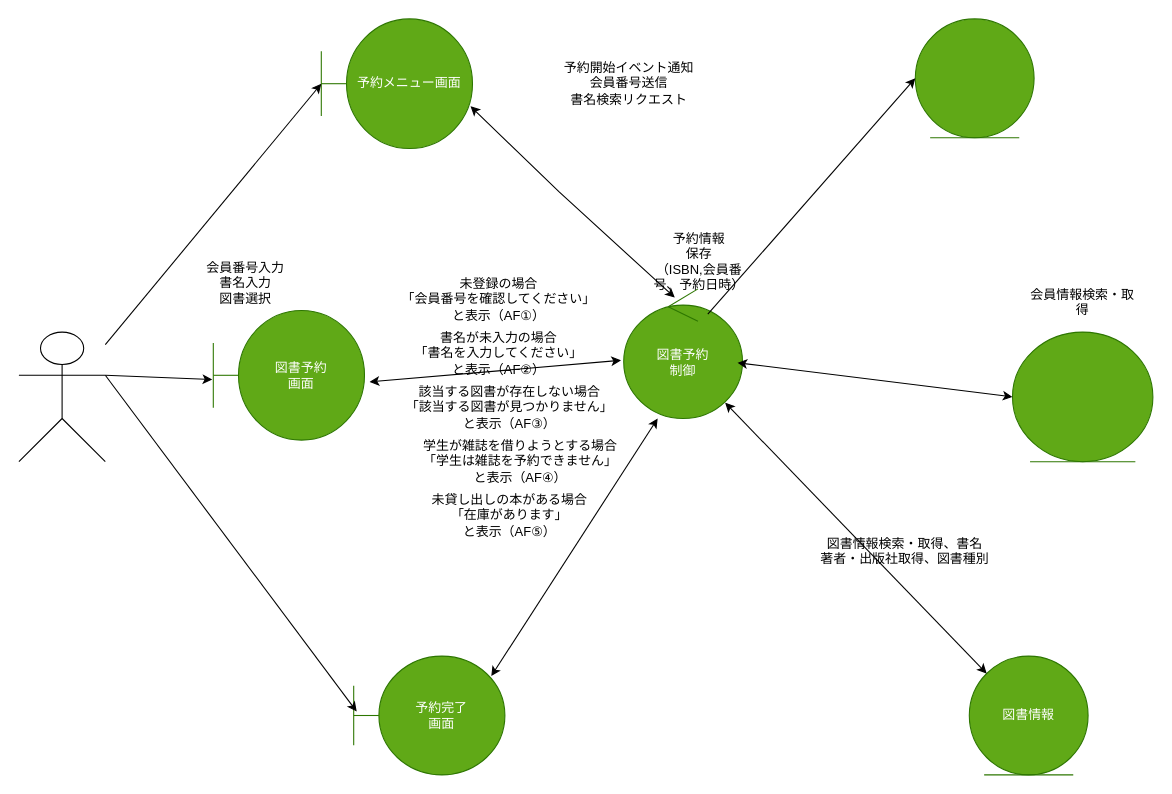
Image size: 1172x794. Some labels were removed from this diagram. The shapes that lost their labels are listed below. From the top down, each one's centre as x and y in pixels, then its label:
(974,78): 予約情報
(61,396): 事務職員
(1082,396): 会員情報
